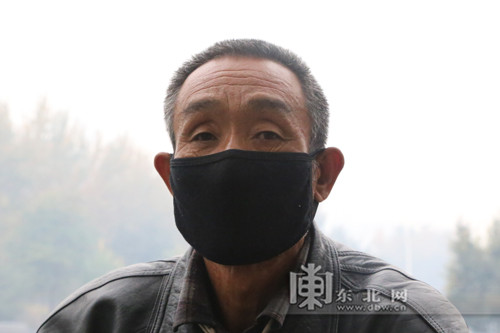mask: (156, 135, 315, 258)
